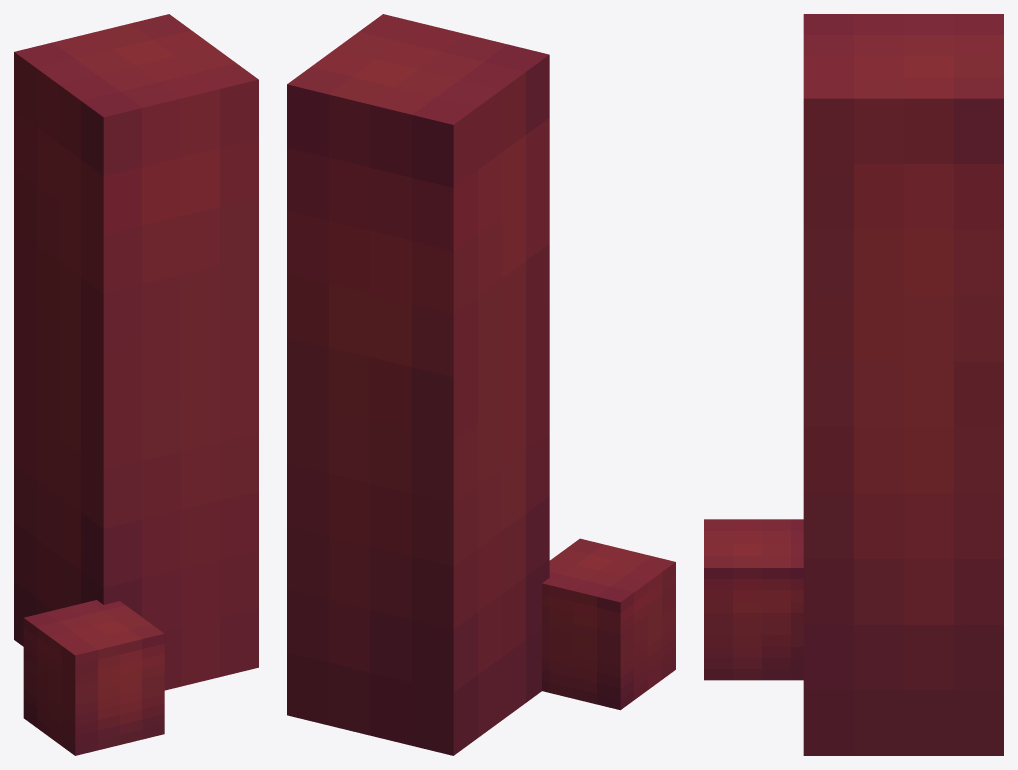
Rendered from cinnabar_crystal_two.obj.
The picture shows the model from 3 angles, left to right: view 1: azimuth 30°, elevation 25°; view 2: azimuth 150°, elevation 25°; view 3: azimuth 270°, elevation 25°; orthographic projection. The views are drawn at different scales.
Visible parts, largest first — view 1: Crystal5_Cube.008; view 2: Crystal5_Cube.008; view 3: Crystal5_Cube.008.
Boxes of the visible parts, x1,y1,x2,y2 form: Crystal5_Cube.008: (14, 14, 258, 755); Crystal5_Cube.008: (287, 14, 675, 755); Crystal5_Cube.008: (704, 14, 1003, 755).
Size of the model in its own units: 0.1355 by 0.3335 by 0.1379.
